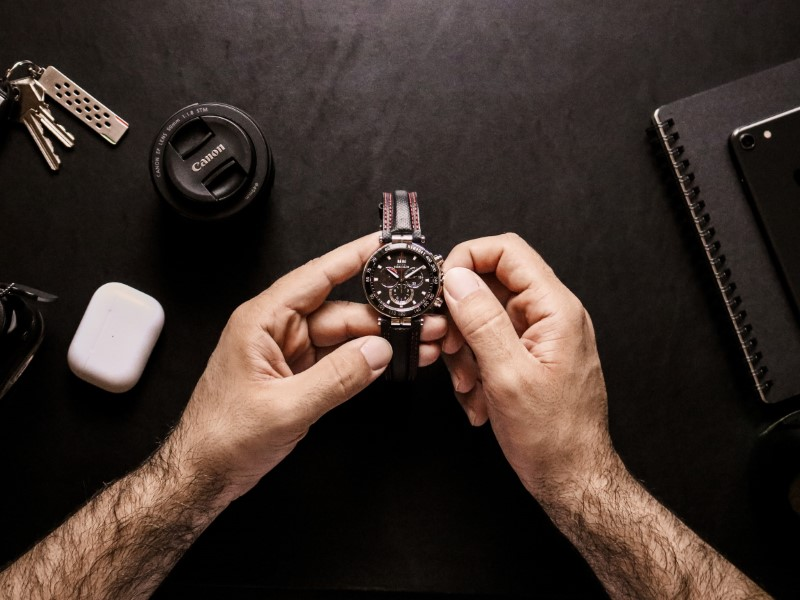key: (0, 62, 78, 168)
